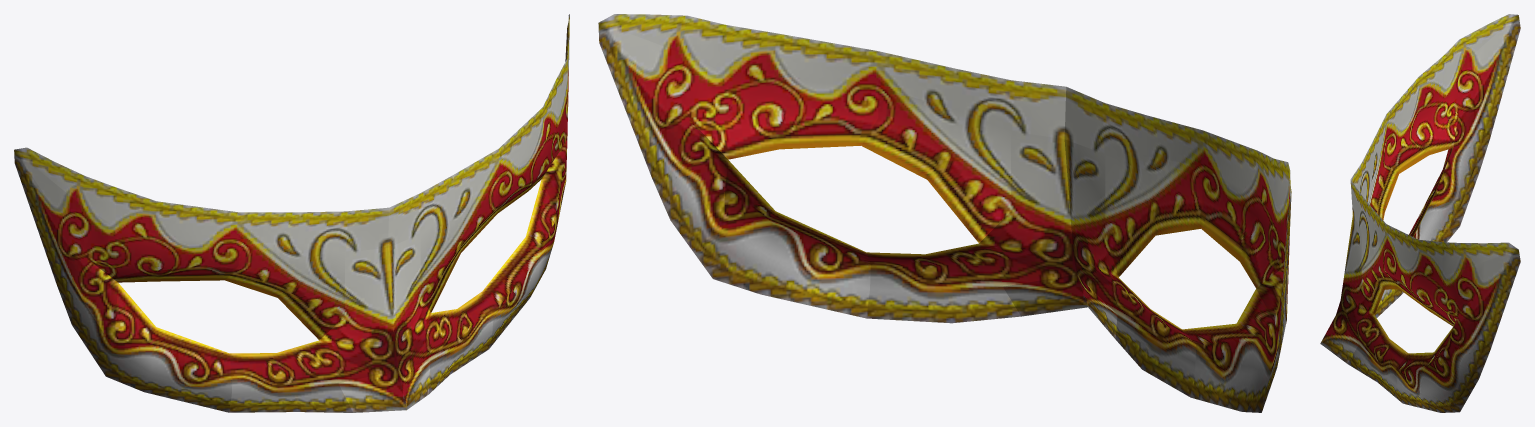
File: acc_face0019.fbx
The picture shows the model from 3 angles, left to right: view 1: azimuth 30°, elevation 25°; view 2: azimuth 150°, elevation 25°; view 3: azimuth 270°, elevation 25°; orthographic projection. The views are drawn at different scales.
Visible parts, largest first — view 1: acc_face0019; view 2: acc_face0019; view 3: acc_face0019.
Part boxes in pixels (box(x1,y1,x2,y2)): acc_face0019: box(14, 14, 569, 412); acc_face0019: box(598, 14, 1291, 412); acc_face0019: box(1320, 14, 1520, 412).
Bounding box in the file's own units: 0.2766 × 0.1219 × 0.0998.
1 material, 1 textured.
